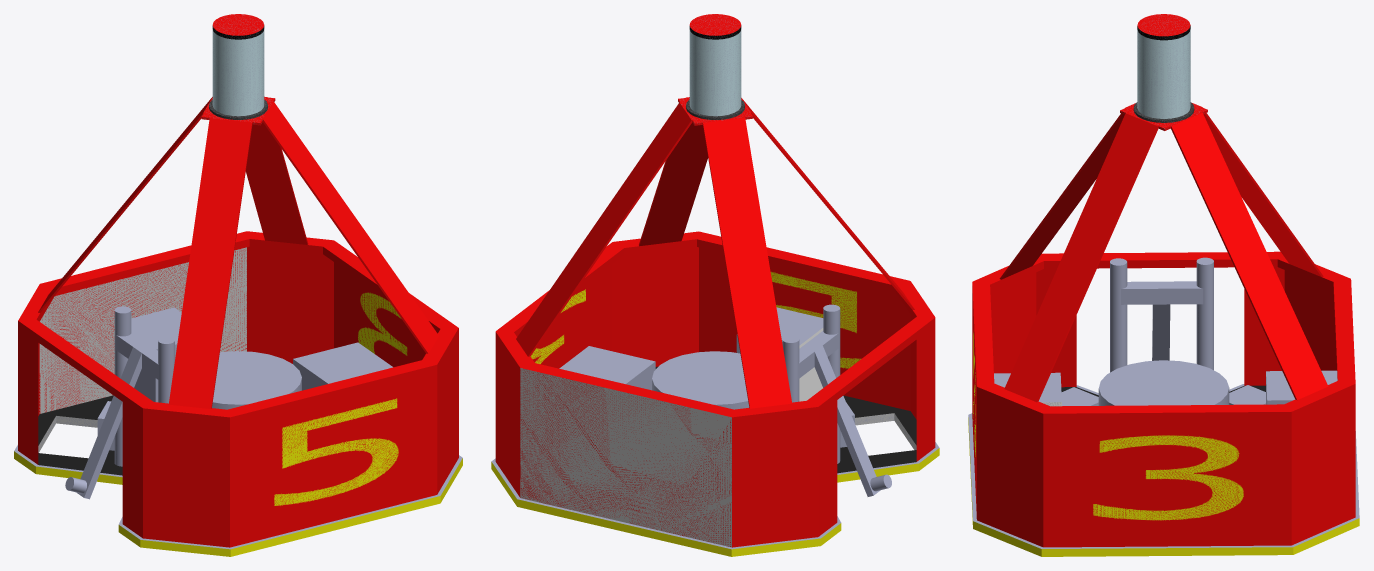
The model's file is rival_frame3.dae.
3 renders of one model, left to right at view 1: azimuth 30°, elevation 25°; view 2: azimuth 150°, elevation 25°; view 3: azimuth 270°, elevation 25°, orthographic. The views are drawn at different scales.
Parts seen in each view (by area): view 1: SketchUp (×11), 支撑4, 支撑, 摄像头 (×2), 射门 (×3), 支撑2, 支撑3; view 2: SketchUp (×12), 支撑3, 支撑2, 摄像头 (×2), 支撑, 射门 (×3), 支撑4; view 3: SketchUp (×12), 支撑, 支撑2, 射门 (×2), 摄像头 (×2), 支撑4, 支撑3.
Part boxes in pixels (box(x1,y1,x2,y2)): SketchUp (×11): box(14, 231, 462, 556); 支撑4: box(168, 118, 252, 408); 支撑: box(262, 101, 438, 353); 摄像头 (×2): box(212, 14, 264, 116); 射门 (×3): box(77, 306, 174, 499); 支撑2: box(245, 122, 308, 244); 支撑3: box(38, 97, 212, 312); SketchUp (×12): box(491, 231, 939, 556); 支撑3: box(702, 117, 792, 408); 支撑2: box(516, 102, 692, 356); 摄像头 (×2): box(689, 14, 741, 116); 支撑: box(639, 97, 708, 246); 射门 (×3): box(782, 304, 880, 496); 支撑4: box(741, 98, 914, 309); SketchUp (×12): box(968, 251, 1359, 556); 支撑: box(1004, 113, 1158, 402); 支撑2: box(1171, 113, 1328, 399); 射门 (×2): box(1110, 257, 1213, 372); 摄像头 (×2): box(1137, 14, 1190, 118); 支撑4: box(999, 113, 1124, 279); 支撑3: box(1202, 107, 1323, 276).
Size of the model in its own units: 18.19 by 17.75 by 22.48.
